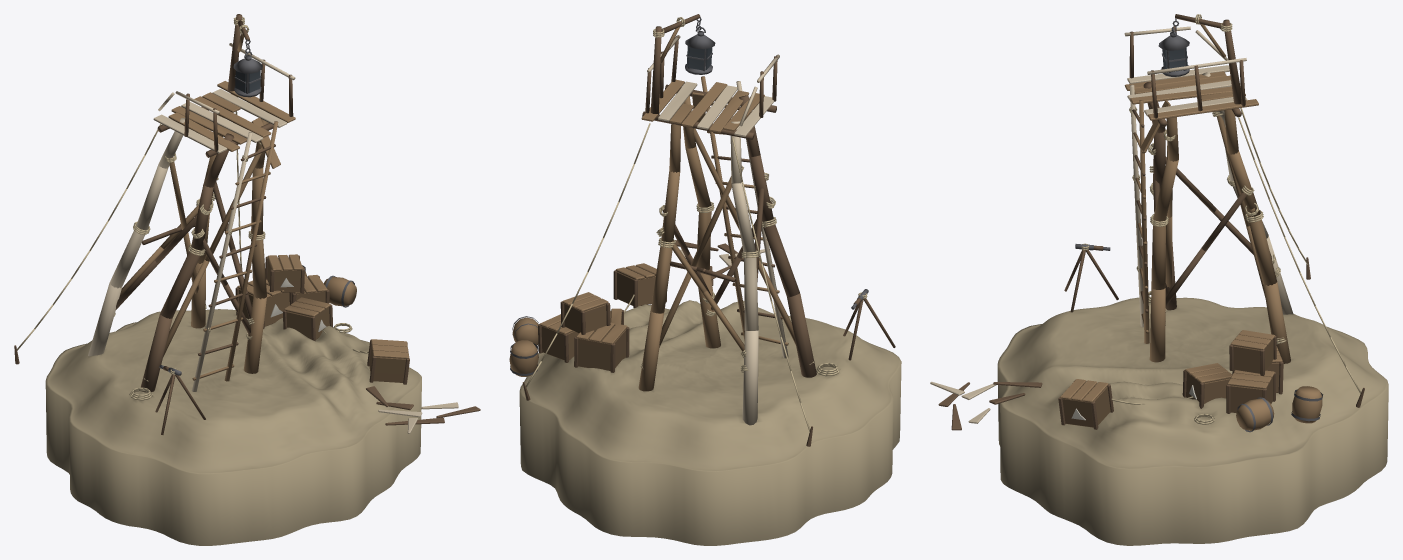
The model's file is wrecker_tower.glb.
3 renders of one model, left to right at view 1: azimuth 30°, elevation 25°; view 2: azimuth 150°, elevation 25°; view 3: azimuth 270°, elevation 25°, orthographic. The views are drawn at different scales.
Visible parts, largest first — view 1: wrecker_tower; view 2: wrecker_tower; view 3: wrecker_tower.
Boxes of the visible parts, left/top/right/bottom form: wrecker_tower: left=14, top=14, right=480, bottom=545; wrecker_tower: left=509, top=14, right=901, bottom=545; wrecker_tower: left=930, top=14, right=1388, bottom=545.
Bounding box in the file's own units: 7.42 × 9.53 × 8.64.
